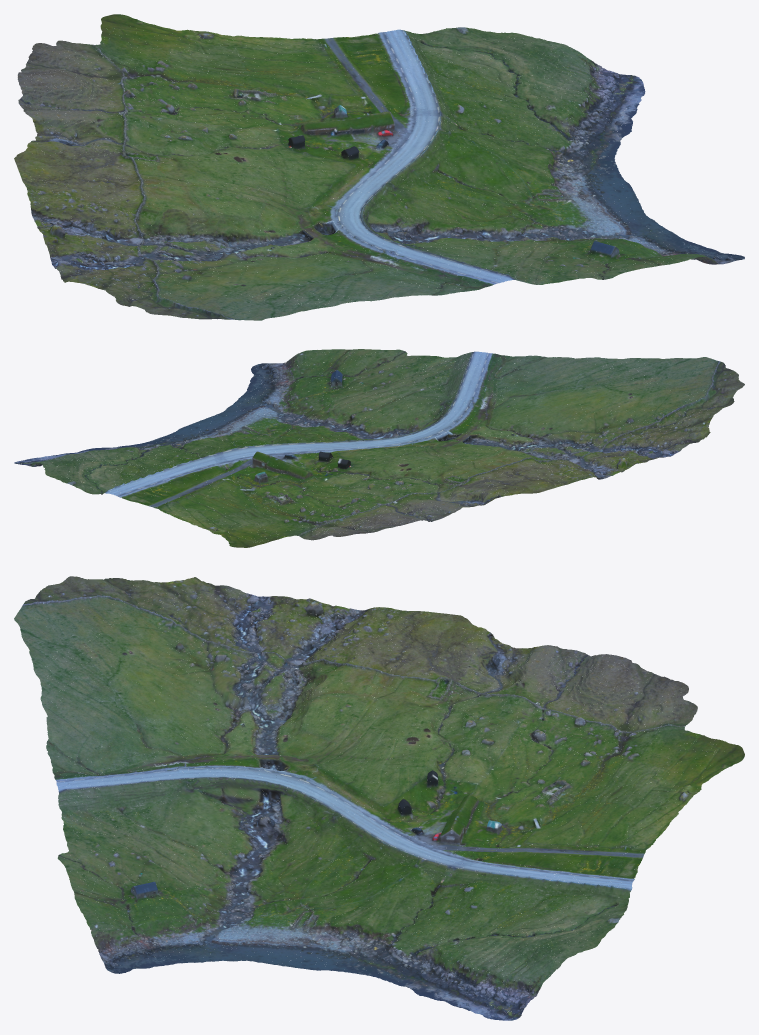
Rendered from depil.glb.
3 views of the same model, one above another, from view 1: azimuth 30°, elevation 25°; view 2: azimuth 150°, elevation 25°; view 3: azimuth 270°, elevation 25° (orthographic). The views are drawn at different scales.
Parts seen in each view (by area): view 1: Mesh_0; view 2: Mesh_0; view 3: Mesh_0.
Part boxes in pixels (<box>): Mesh_0: <box>14,14,744,320</box>; Mesh_0: <box>14,349,744,547</box>; Mesh_0: <box>14,576,744,1020</box>.
Size of the model in its own units: 233 by 33.7 by 206.
Materials: 1 (1 with a texture image).
